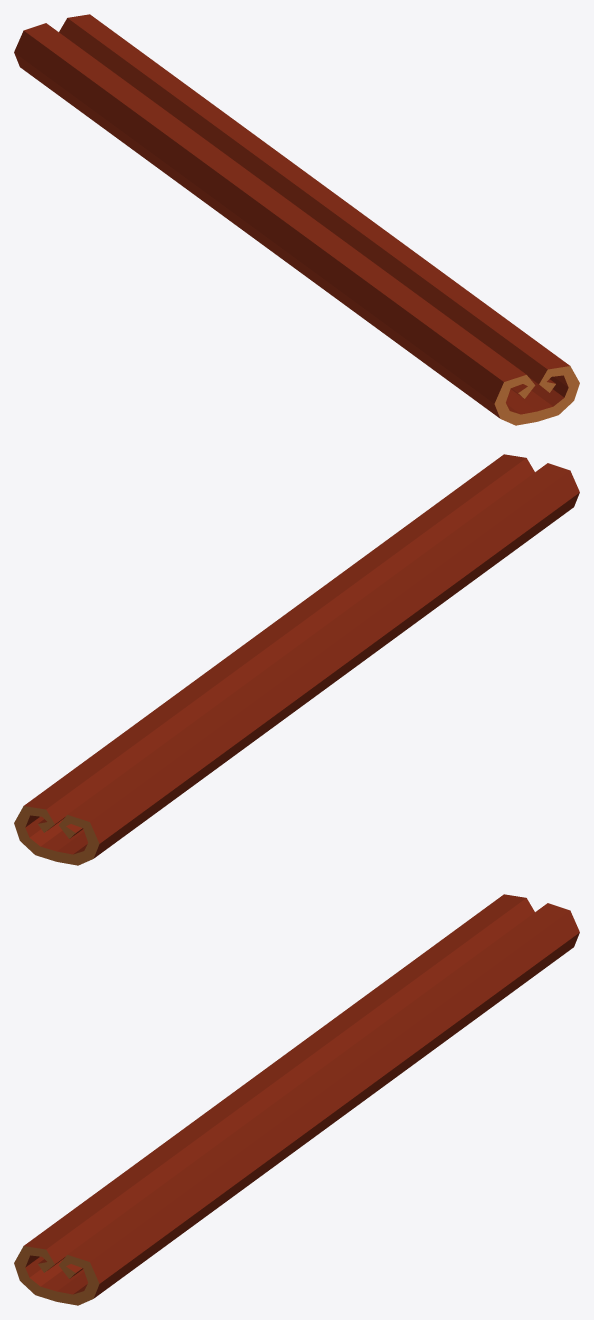
File: cinnamon stick.obj
3 renders of one model, top to bottom at view 1: azimuth 30°, elevation 25°; view 2: azimuth 150°, elevation 25°; view 3: azimuth 330°, elevation 25°, orthographic.
Size of the model in its own units: 0.3328 by 0.1851 by 3.24.
